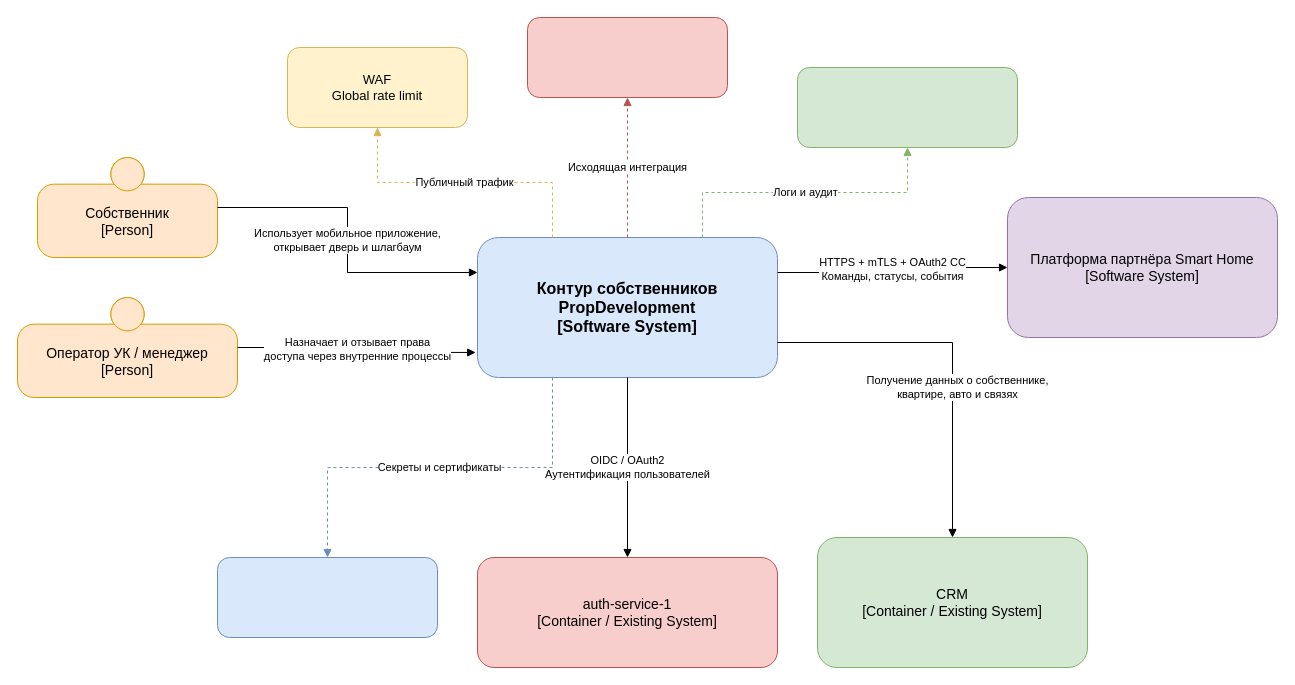
Some shapes in this 1295 by 685 pixel diagram are drawn without their labels. The shapes that lost their labels are listed below. From the top down, each one's centre as x and y in pixels, then its label:
At [627,57]: "Firewall IP allow list to Smart Home".
At [907,107]: "SIEM Аудит и события безопасности".
At [327,597]: "Vault / KMS Секреты, ключи, сертификаты".
